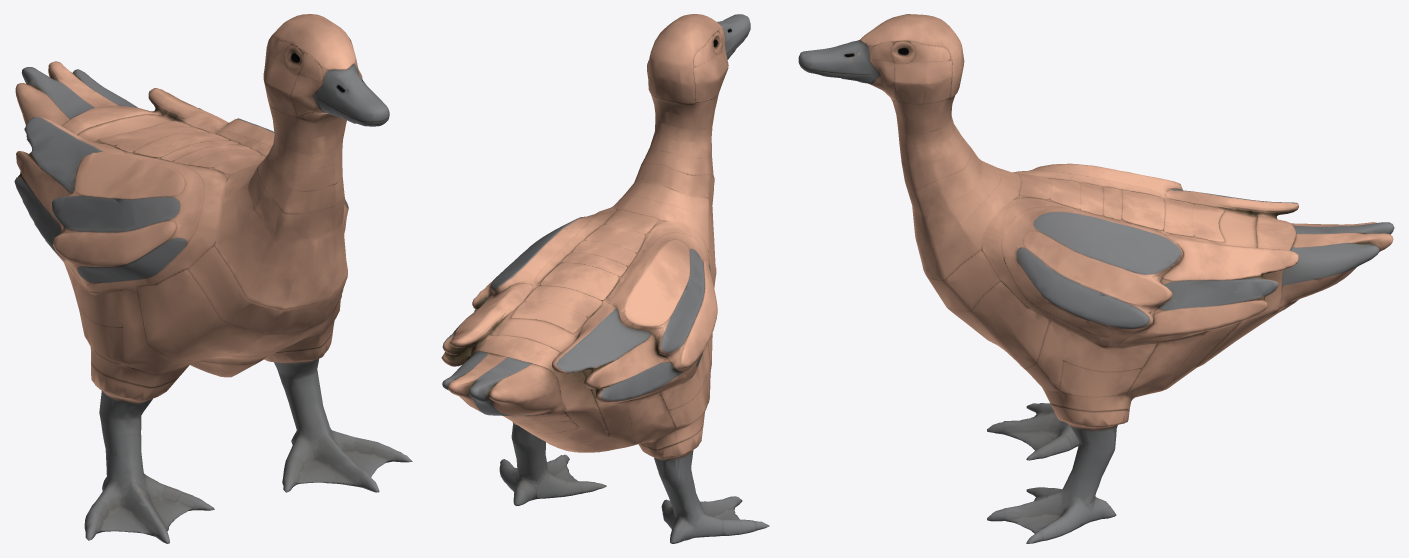
File: MZ4250 - Clockwork Duck Copper.glb
The picture shows the model from 3 angles, left to right: view 1: azimuth 30°, elevation 25°; view 2: azimuth 150°, elevation 25°; view 3: azimuth 270°, elevation 25°; orthographic projection. The views are drawn at different scales.
Parts seen in each view (by area): view 1: Clockwork Duck_low.003; view 2: Clockwork Duck_low.003; view 3: Clockwork Duck_low.003.
Boxes of the visible parts, <box> form: Clockwork Duck_low.003: <box>14,14,412,543</box>; Clockwork Duck_low.003: <box>441,14,769,543</box>; Clockwork Duck_low.003: <box>798,14,1394,543</box>.
Bounding box in the file's own units: 0.1903 × 0.2977 × 0.3496.
Materials: 1 (1 with a texture image).
